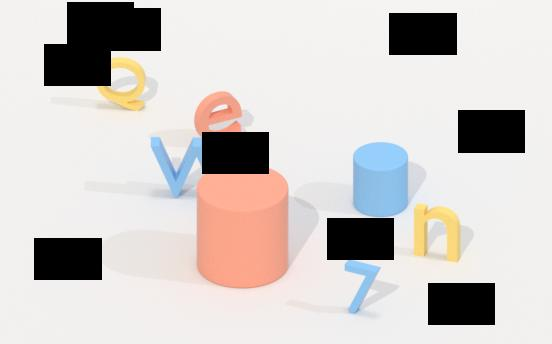7: (339, 254, 385, 320)
e: (196, 92, 243, 147)
n: (409, 196, 466, 268)
q: (95, 55, 151, 114)
tru: (193, 158, 293, 295), (348, 137, 411, 218)
w: (146, 132, 247, 201)
